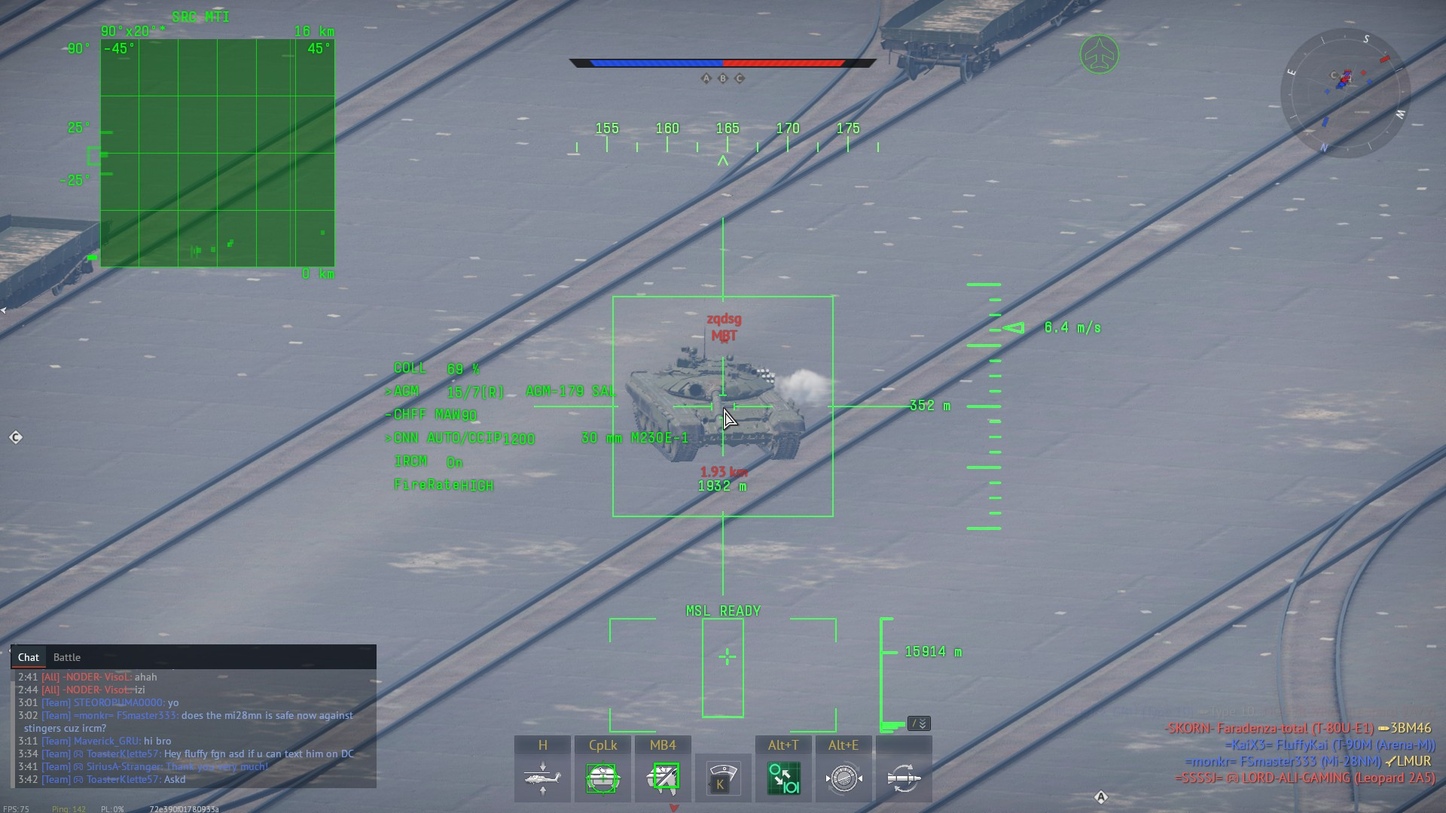t72b: (625, 345, 806, 462)
